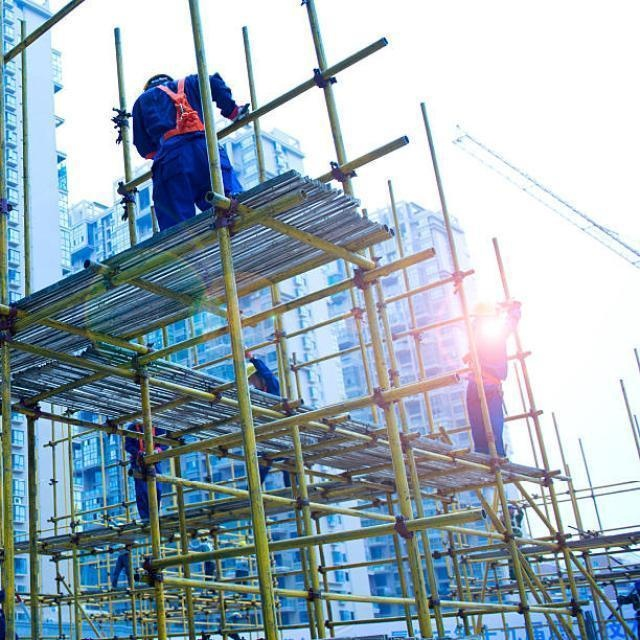Arnes_seguridad: (153, 74, 203, 141)
